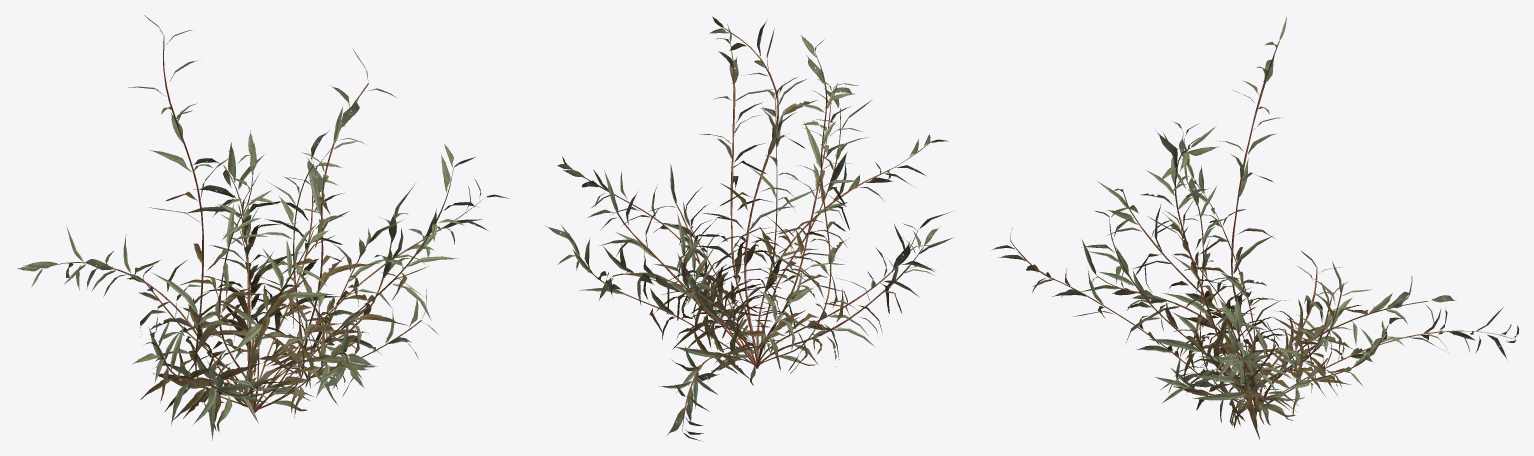
File: shrub_02.glb
3 views of the same model, side by side, from view 1: azimuth 30°, elevation 25°; view 2: azimuth 150°, elevation 25°; view 3: azimuth 270°, elevation 25° (orthographic). The views are drawn at different scales.
Visible parts, largest first — view 1: willow_a_LOD0, willow_c_LOD0, willow_b_LOD0, willow_d_LOD0; view 2: willow_c_LOD0, willow_a_LOD0, willow_b_LOD0, willow_d_LOD0; view 3: willow_a_LOD0, willow_c_LOD0, willow_b_LOD0, willow_d_LOD0.
Part boxes in pixels (x1,y1,x2,y2): willow_a_LOD0: (128, 15, 478, 432); willow_c_LOD0: (17, 130, 508, 430); willow_b_LOD0: (159, 48, 402, 440); willow_d_LOD0: (122, 130, 438, 413); willow_c_LOD0: (557, 79, 953, 440); willow_a_LOD0: (587, 24, 872, 367); willow_b_LOD0: (648, 16, 952, 370); willow_d_LOD0: (545, 82, 818, 370); willow_a_LOD0: (1081, 16, 1456, 439); willow_c_LOD0: (992, 121, 1519, 425); willow_b_LOD0: (1081, 126, 1372, 421); willow_d_LOD0: (1154, 165, 1406, 424).
Size of what is drawn, in the model's own units: 1.76 by 1.69 by 2.28.
Materials: 1 (1 with a texture image).
